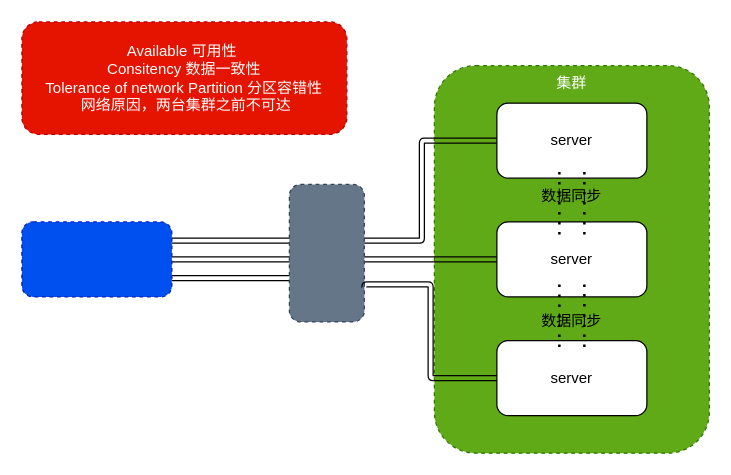
The diagram is 731 pixels wide and 475 high, and some of its shapes have lost their labels. Here are the shapes that lost their labels. From the top down, the centre of each, then its label:
the point at 96,259: 注册中心
the point at 326,252: 心跳检测
